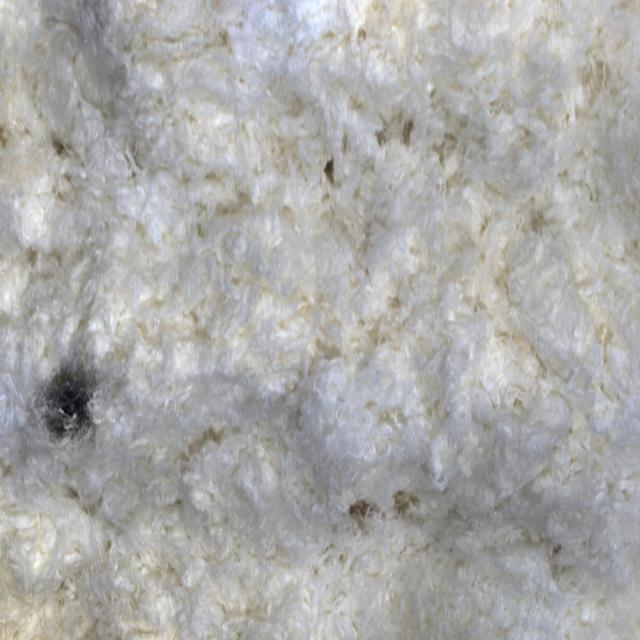dust: (13, 308, 136, 503)
